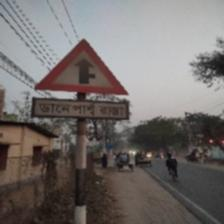Animal: (26, 29, 139, 133)
